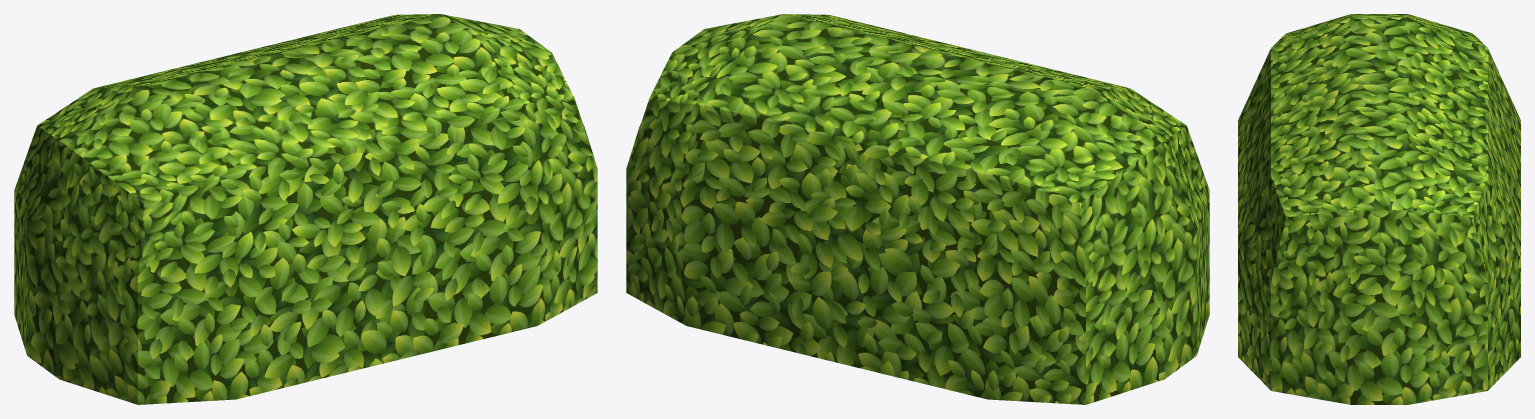
File: Bush.fbx
3 renders of one model, left to right at view 1: azimuth 30°, elevation 25°; view 2: azimuth 150°, elevation 25°; view 3: azimuth 270°, elevation 25°, orthographic. The views are drawn at different scales.
Parts seen in each view (by area): view 1: Bush; view 2: Bush; view 3: Bush.
Part boxes in pixels (bbox=[...]): Bush: bbox=[14, 14, 597, 404]; Bush: bbox=[626, 14, 1209, 404]; Bush: bbox=[1238, 14, 1520, 404].
Bounding box in the file's own units: 11.66 × 5.11 × 6.22.
